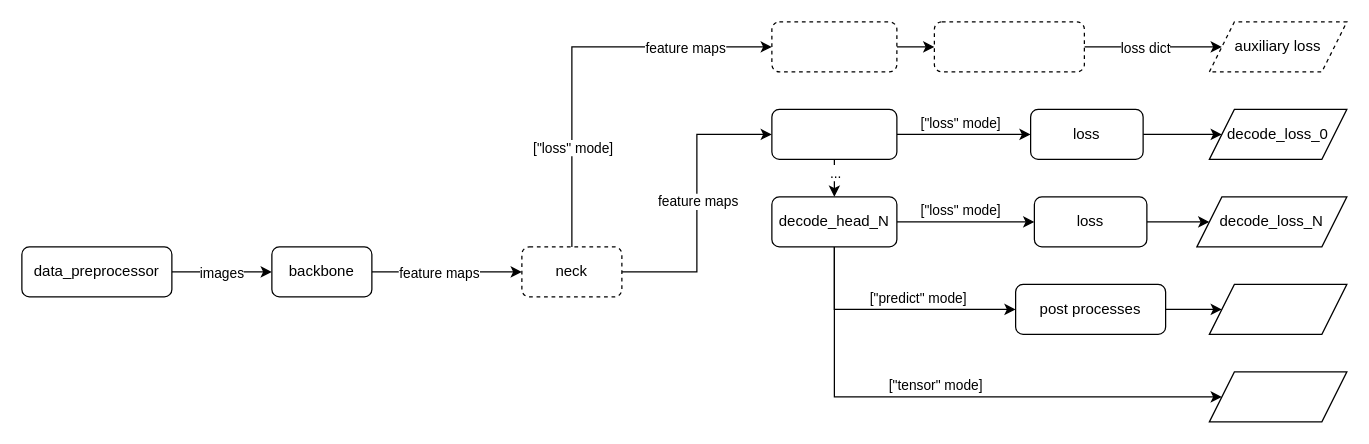
This 1369x444 diagram has some shape labels left out. Here are the shapes that lost their labels. From the top down, the centre of each, then its label:
point (834, 46): auxiliary_head
point (1008, 46): auxiliary_head.loss
point (834, 133): decode_head_0
point (1277, 308): mask
point (1277, 396): tensor
